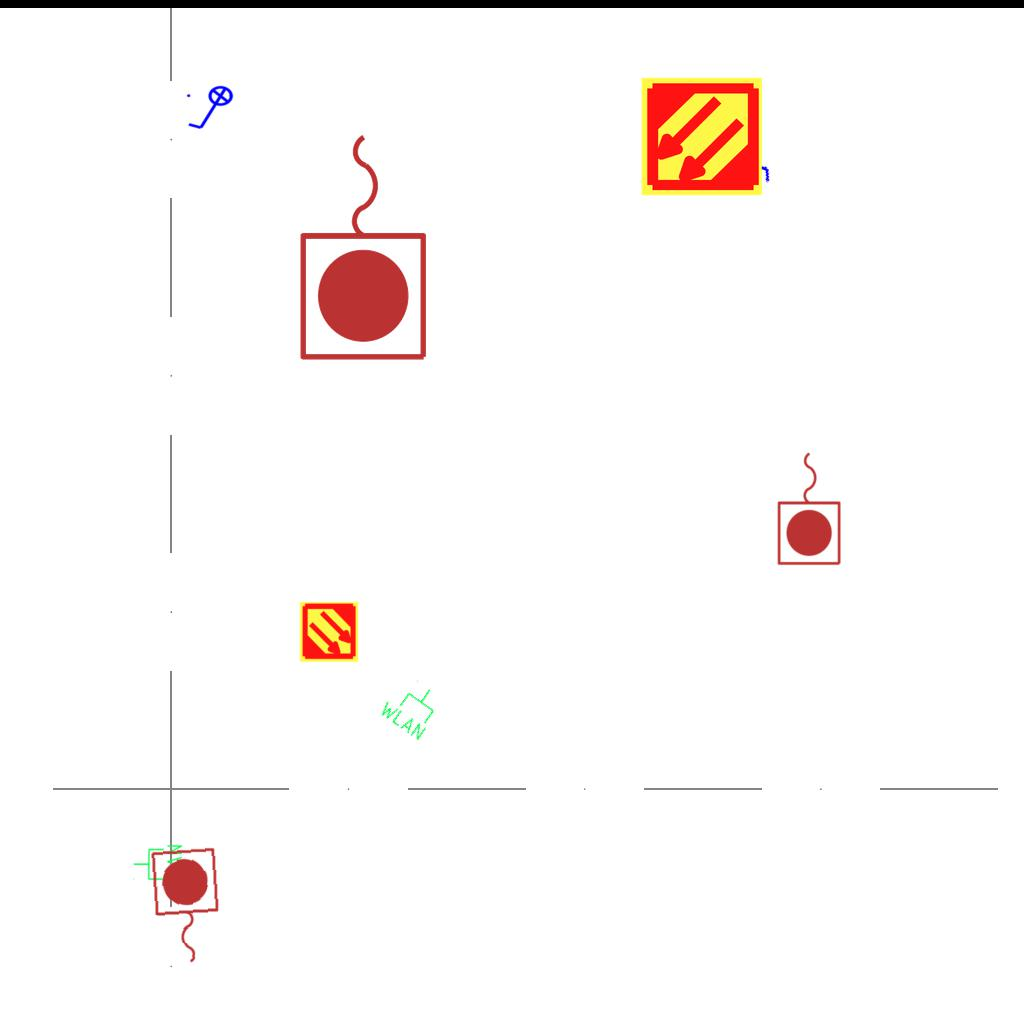ASR_Ansaugrauchmelder: (639, 74, 764, 199), (298, 601, 360, 663)
Ausschalter_beleuchtet: (714, 130, 778, 198), (184, 85, 240, 133)
WLAN: (375, 670, 449, 744), (132, 843, 184, 895)
Zugtaster: (293, 124, 437, 368), (145, 843, 227, 971), (774, 447, 846, 569)
